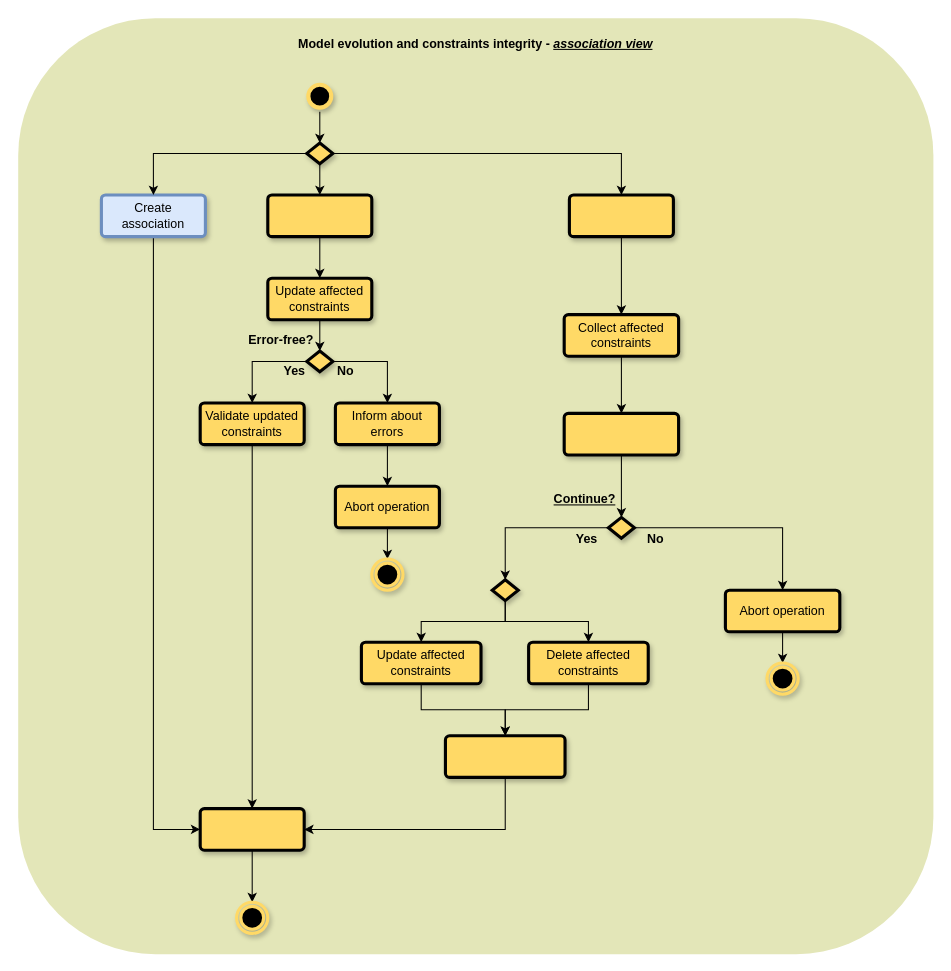
The diagram is 951 pixels wide and 971 high, and some of its shapes have lost their labels. Each missing label, with the centre of its shape:
"Confirm deletion" belongs at pixel 505 758.
"Delete association" belongs at pixel 622 217.
"Notify user" belongs at pixel 622 435.
"Persist changes" belongs at pixel 252 830.
"Update association" belongs at pixel 320 217.
